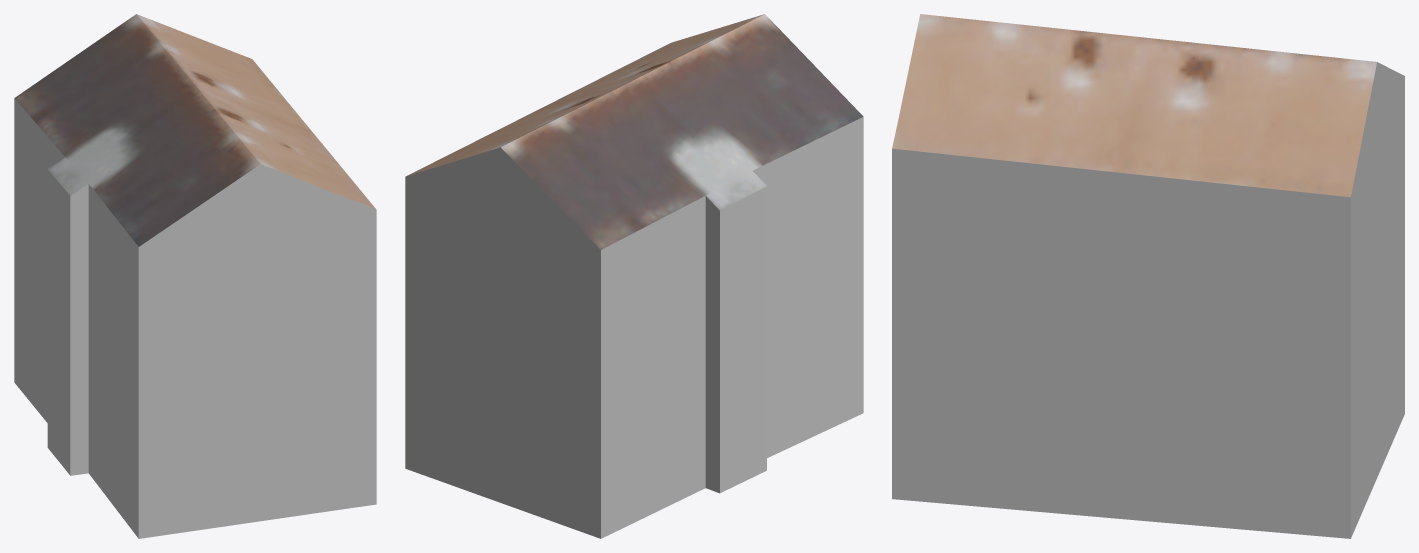
File: DEBW_0010007Txhq.gltf
3 views of the same model, side by side, from view 1: azimuth 30°, elevation 25°; view 2: azimuth 150°, elevation 25°; view 3: azimuth 270°, elevation 25° (orthographic). The views are drawn at different scales.
Parts seen in each view (by area): view 1: Z_UP; view 2: Z_UP; view 3: Z_UP.
Part boxes in pixels (bbox=[...]): Z_UP: bbox=[14, 14, 376, 538]; Z_UP: bbox=[405, 14, 863, 538]; Z_UP: bbox=[892, 14, 1404, 538].
Bounding box in the file's own units: 13.69 × 16.55 × 18.11.
Materials: 2 (1 with a texture image).
